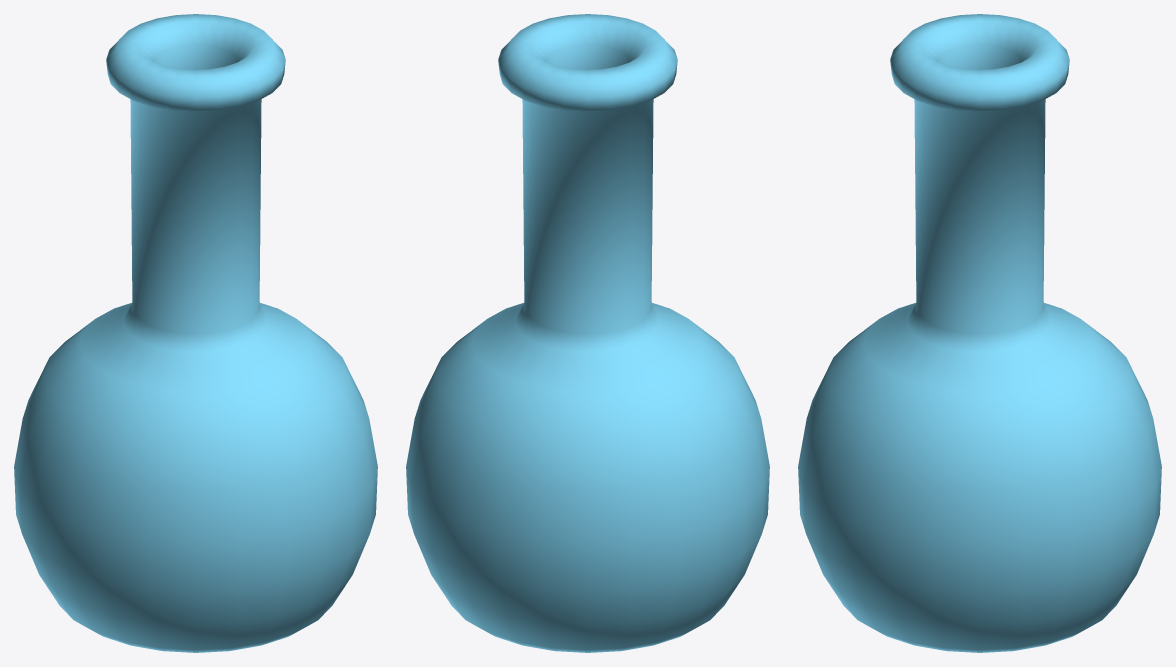
File: Flask, Flat Bottom, Long Neck.fbx
3 views of the same model, side by side, from view 1: azimuth 30°, elevation 25°; view 2: azimuth 150°, elevation 25°; view 3: azimuth 270°, elevation 25° (orthographic).
Parts seen in each view (by area): view 1: Flask, Flat Bottom, Long Neck_LOD0; view 2: Flask, Flat Bottom, Long Neck_LOD0; view 3: Flask, Flat Bottom, Long Neck_LOD0.
Part boxes in pixels (left/top/right/bottom): Flask, Flat Bottom, Long Neck_LOD0: left=14, top=14, right=377, bottom=652; Flask, Flat Bottom, Long Neck_LOD0: left=406, top=14, right=769, bottom=652; Flask, Flat Bottom, Long Neck_LOD0: left=798, top=14, right=1161, bottom=652.
Size of what is drawn, in the model's own units: 0.4439 by 0.7449 by 0.4439.
